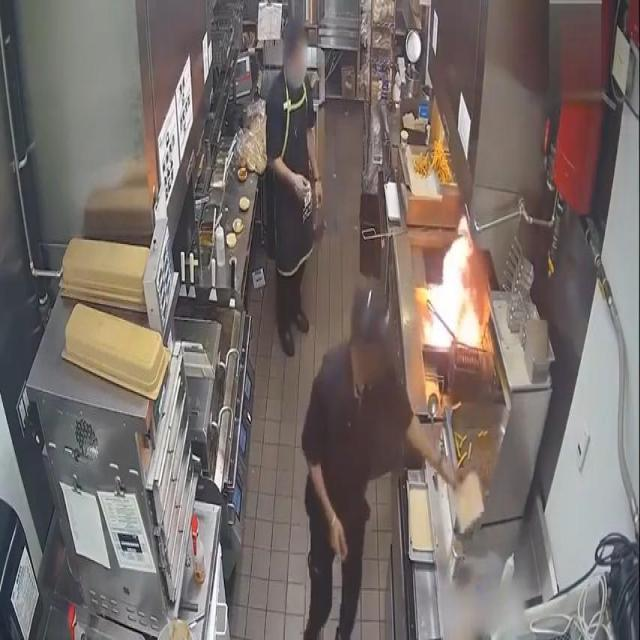smoke: (423, 209, 486, 356)
